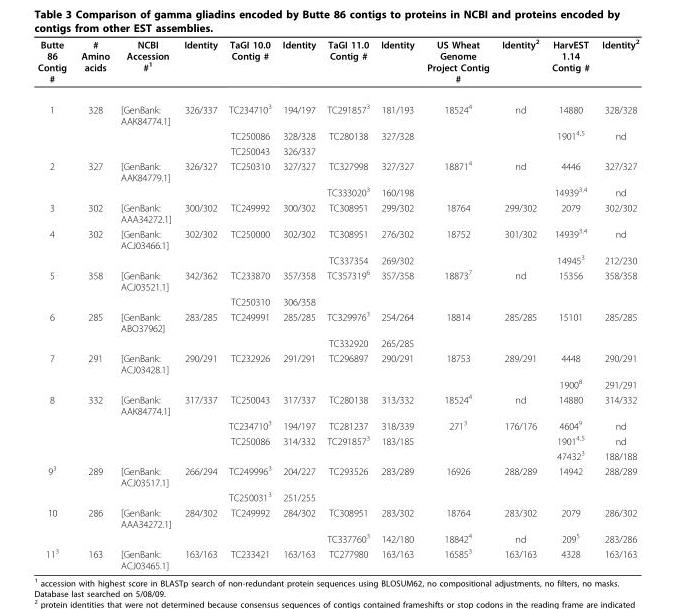table: (37, 37, 638, 570)
table column: (419, 37, 494, 570), (114, 37, 177, 570), (222, 37, 276, 570), (320, 37, 374, 570), (494, 37, 544, 570), (544, 37, 594, 570), (177, 37, 222, 570), (374, 37, 419, 570), (276, 37, 320, 570), (594, 37, 638, 570), (73, 37, 114, 570), (37, 37, 73, 570)
table column header: (37, 37, 638, 93)
table row: (37, 37, 638, 93), (37, 93, 638, 127), (37, 266, 638, 293), (37, 308, 638, 335), (37, 157, 638, 183), (37, 199, 638, 225), (37, 225, 638, 251), (37, 350, 638, 376), (37, 391, 638, 417), (37, 462, 638, 488), (37, 504, 638, 530), (37, 545, 638, 570), (37, 127, 638, 143), (37, 183, 638, 199), (37, 488, 638, 504), (37, 251, 638, 266), (37, 293, 638, 308), (37, 335, 638, 350), (37, 376, 638, 391), (37, 417, 638, 432), (37, 432, 638, 447), (37, 447, 638, 462), (37, 530, 638, 545), (37, 143, 638, 157)
table spanning cell: (37, 391, 73, 462), (37, 93, 73, 157), (37, 157, 73, 199), (37, 266, 73, 308), (37, 308, 73, 350), (37, 462, 73, 504), (37, 225, 73, 266), (37, 350, 73, 391), (37, 504, 73, 545)
